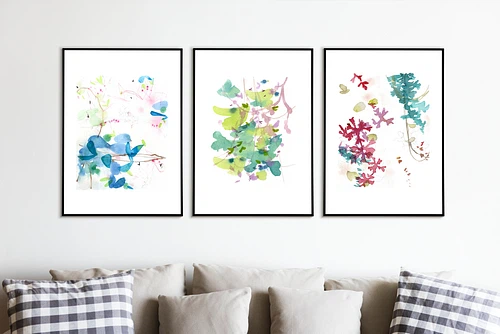sofa: (1, 259, 500, 334)
wall art: (320, 45, 447, 218), (190, 44, 315, 218), (59, 45, 184, 218)
